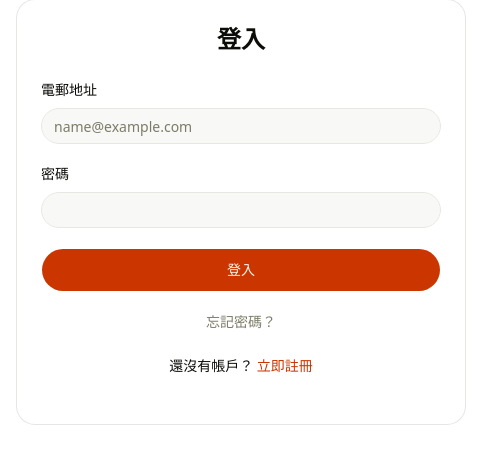
Scenario: LoginPage › shows validation error when password is empty on submit
Fill only email, leave password empty
Type "test@example.com" into the field with placeholder "name@example.com" at (241, 126), box [41,108,441,144]
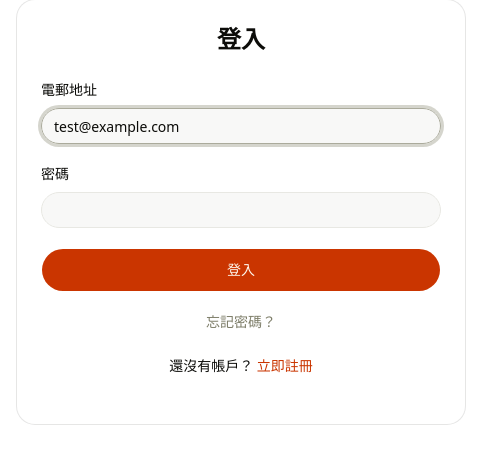
Click the button "登入" at (241, 270), box [41,248,441,292]
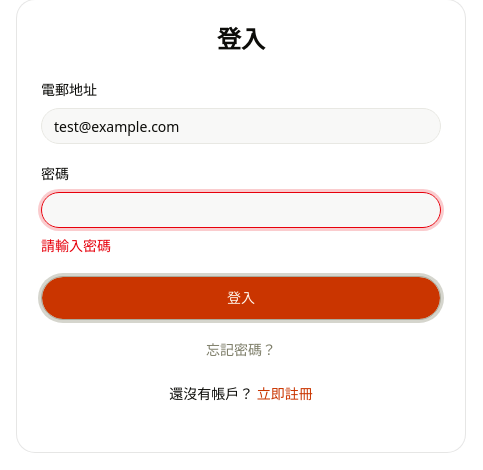
Expected: the text "請輸入密碼" is shown, [41,236,111,255]
